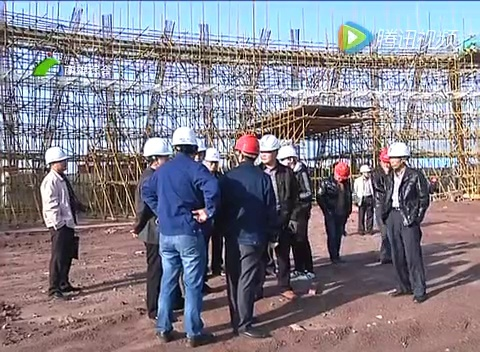red: (232, 134, 260, 164), (332, 162, 349, 183), (379, 148, 391, 170)
white: (142, 135, 171, 170), (171, 126, 197, 156), (257, 132, 279, 165), (43, 144, 67, 172), (387, 142, 410, 170), (277, 143, 298, 168), (203, 147, 221, 172), (359, 163, 371, 179)
